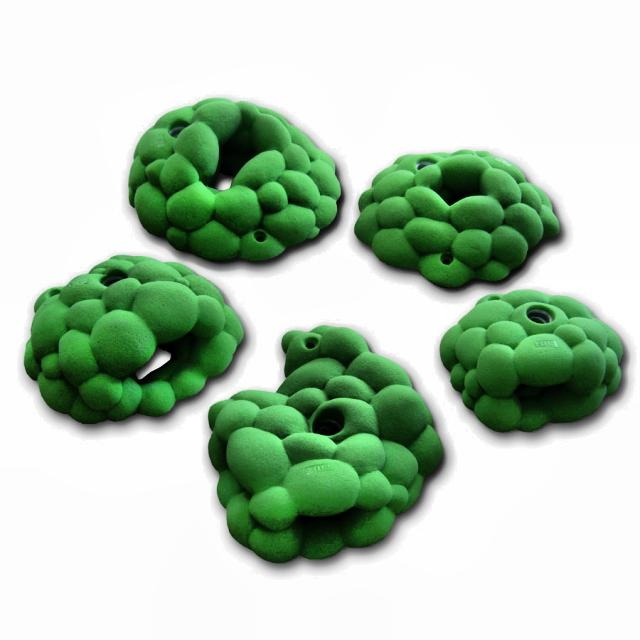Hold: (204, 318, 440, 564), (25, 258, 241, 426), (131, 96, 343, 263), (358, 142, 553, 290), (451, 288, 622, 436)
